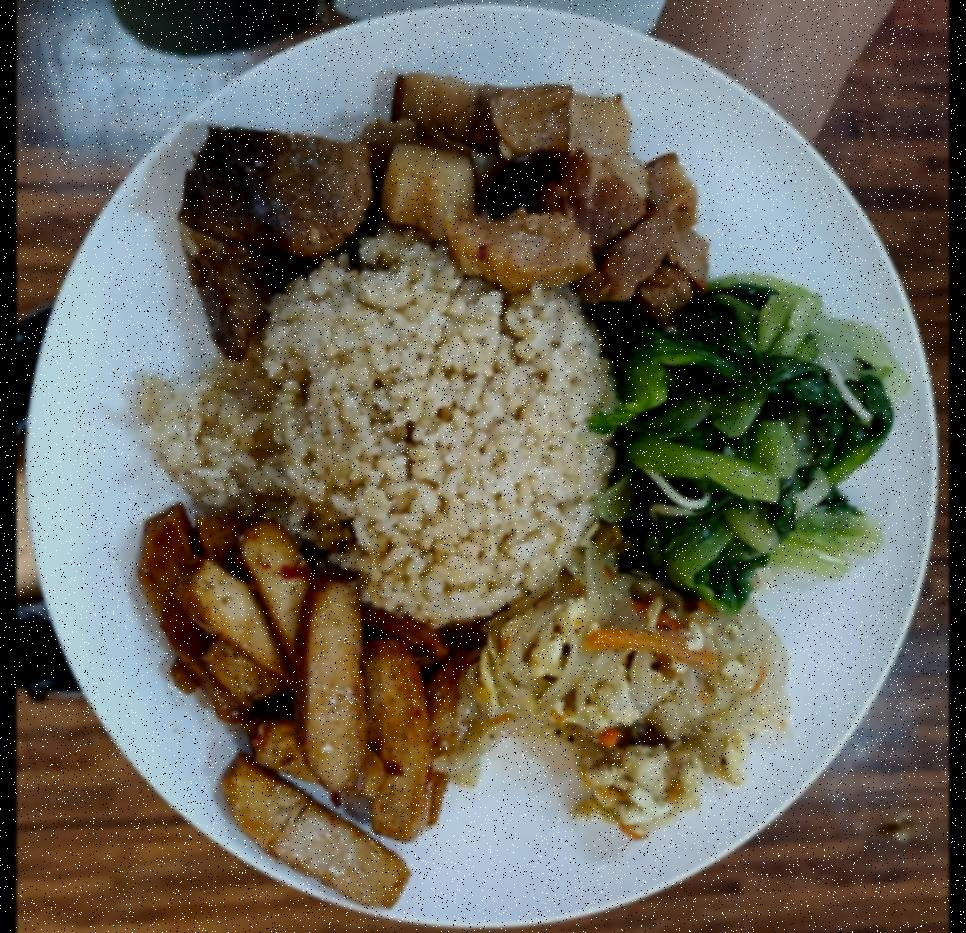big fried chicken leg: (18, 0, 933, 925)
box: (130, 239, 619, 627)
braised fish fillet: (133, 501, 453, 911), (613, 279, 903, 613), (470, 544, 789, 836)
braised pork: (181, 68, 709, 333)
